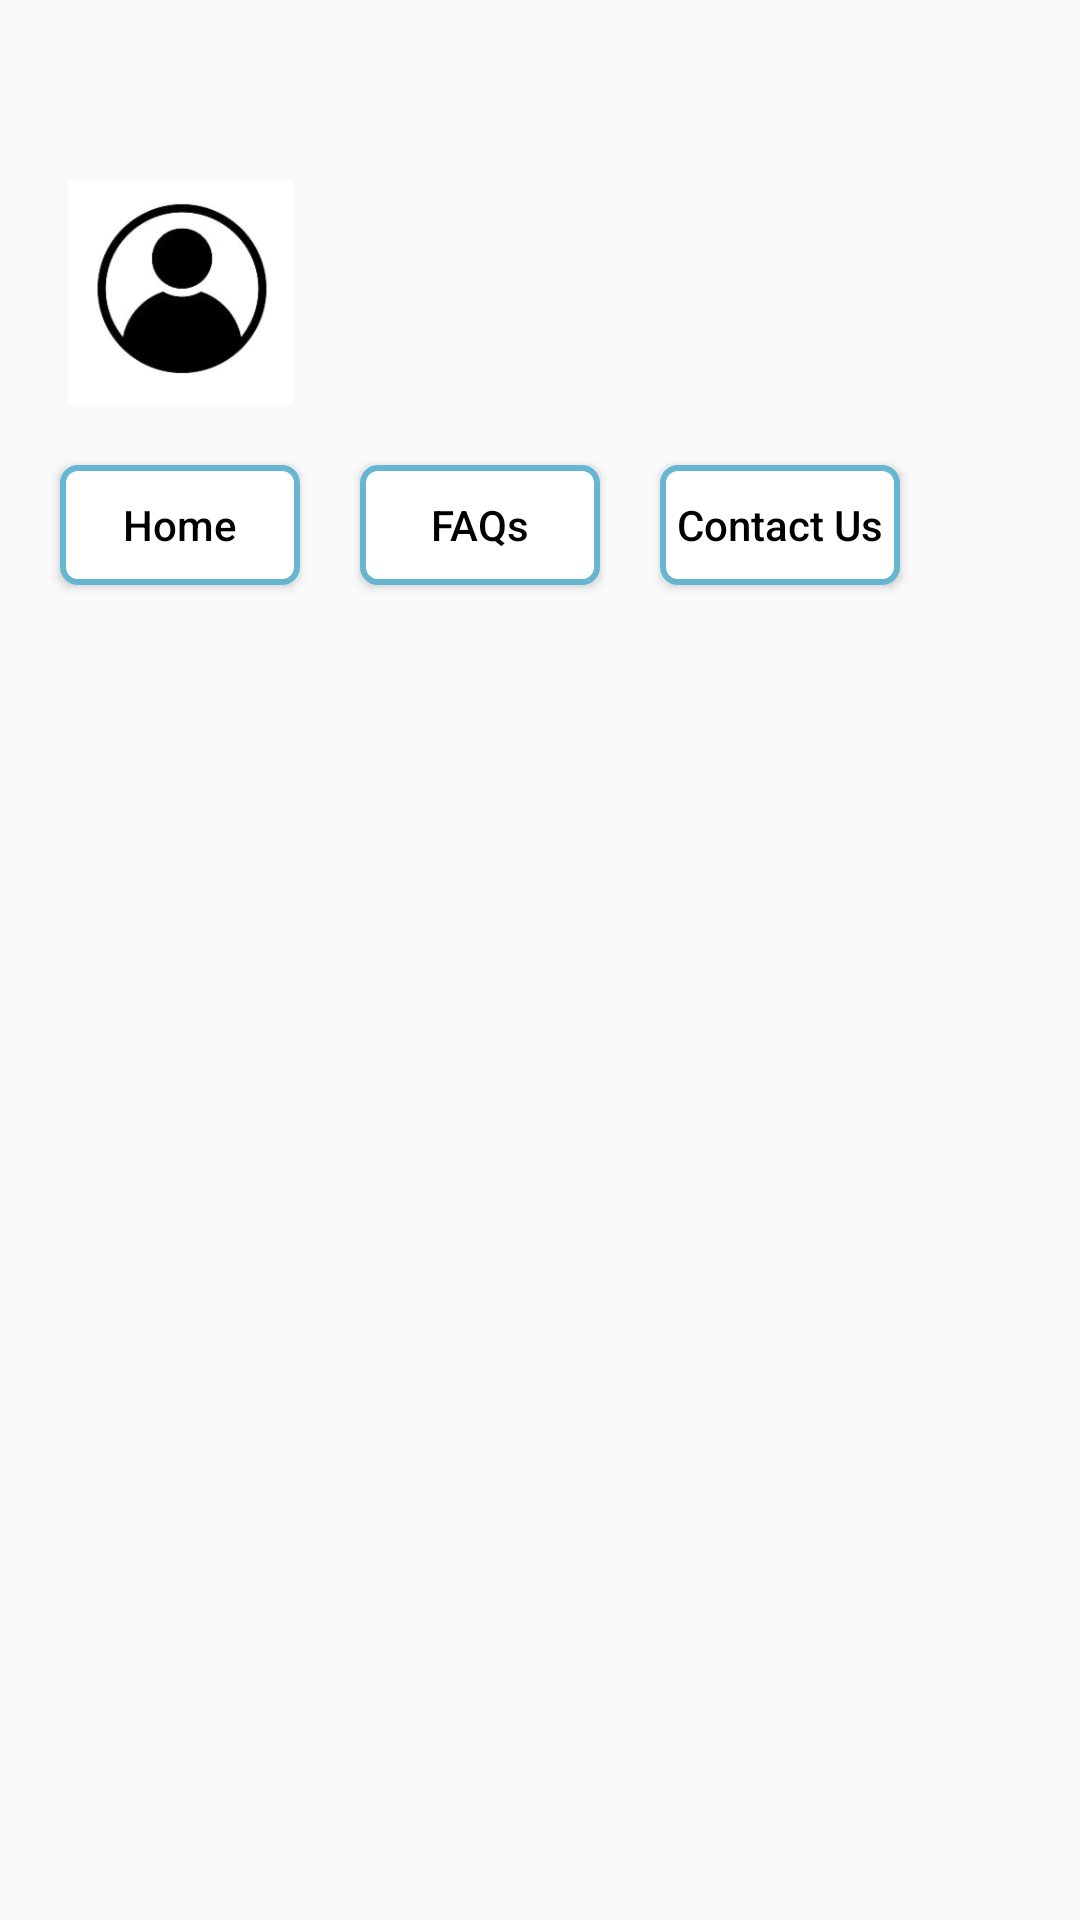

Point at icon controls on the screen. Image size 1080 × 1920, points as (x,y).
profile: (182,288)
